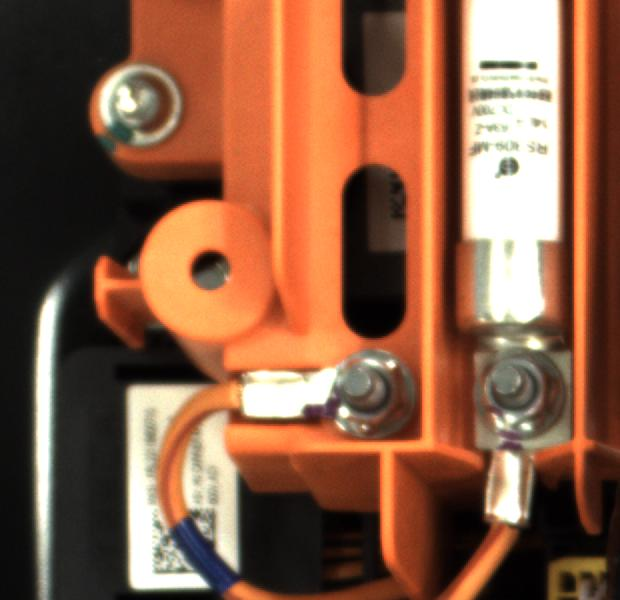screw_m: (83, 58, 197, 148)
screw_s: (468, 341, 573, 445), (315, 345, 422, 441)
